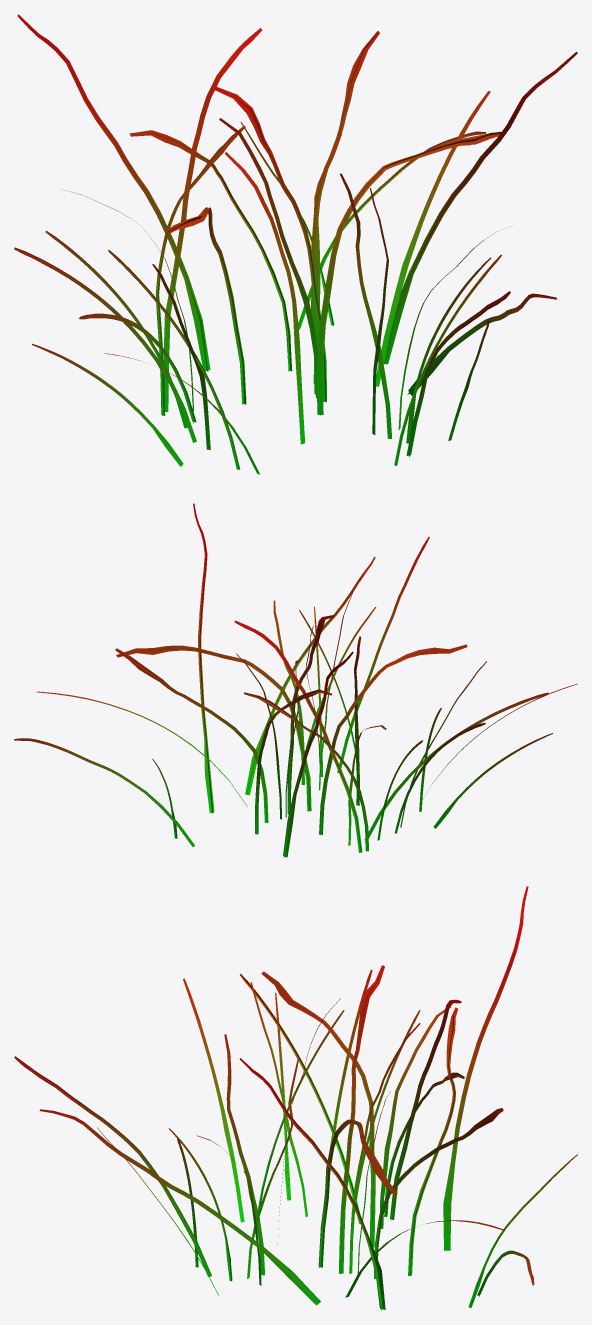
File: Cotton Grass_LOD0_Var6_wlykecdia.fbx
3 views of the same model, one above another, from view 1: azimuth 30°, elevation 25°; view 2: azimuth 150°, elevation 25°; view 3: azimuth 270°, elevation 25° (orthographic). The views are drawn at different scales.
Visible parts, largest first — view 1: _f978_Var6_LOD0; view 2: _f978_Var6_LOD0; view 3: _f978_Var6_LOD0.
Boxes of the visible parts, <box> form: _f978_Var6_LOD0: <box>14,14,577,474</box>; _f978_Var6_LOD0: <box>14,503,577,857</box>; _f978_Var6_LOD0: <box>14,886,577,1310</box>.
Size of the model in its own units: 25.43 by 14.37 by 23.96.
